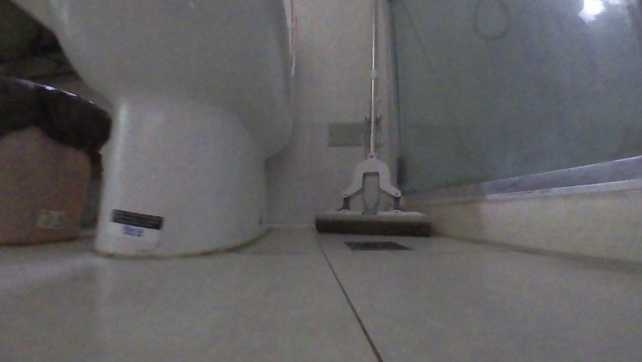toilet: (53, 0, 295, 258)
trash_can: (0, 75, 113, 248)
